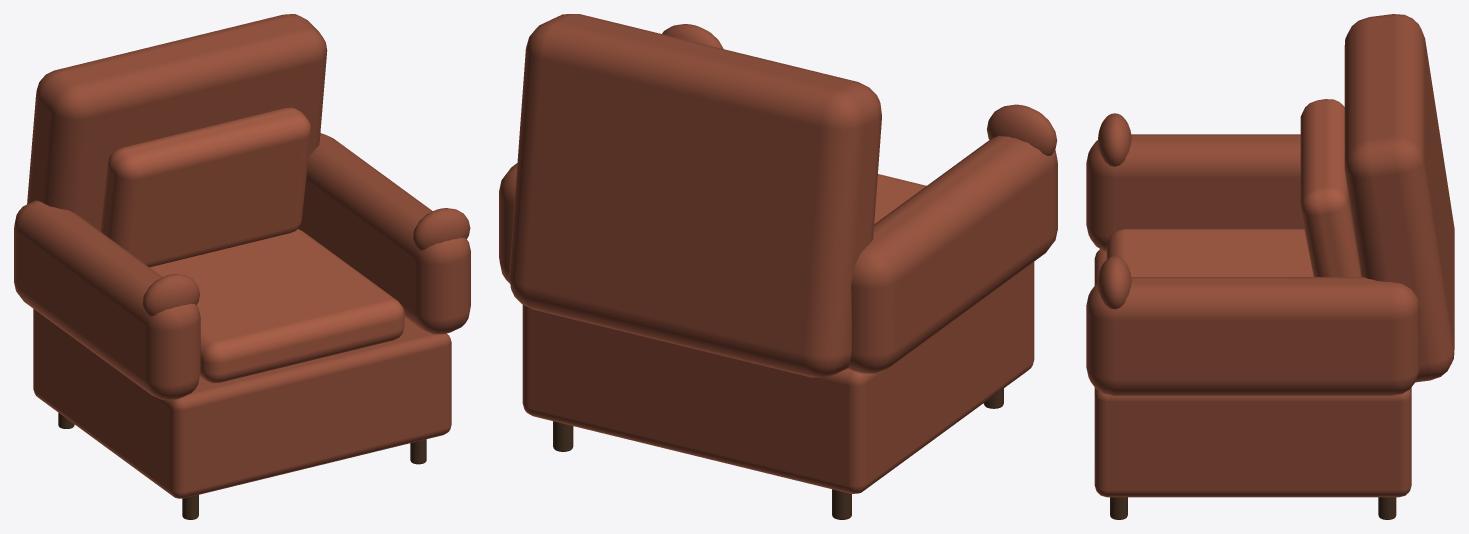
The model's file is armchair.glb.
3 views of the same model, side by side, from view 1: azimuth 30°, elevation 25°; view 2: azimuth 150°, elevation 25°; view 3: azimuth 270°, elevation 25° (orthographic). The views are drawn at different scales.
Parts seen in each view (by area): view 1: Cube, Cube.001, Cube.005, Cube.004, Cube.002, Cube.003, Sphere.001, Sphere; view 2: Cube.001, Cube, Cube.002, Sphere, Cube.003, Cube.004, Sphere.001; view 3: Cube.003, Cube, Cube.001, Cube.002, Cube.004, Cube.005, Sphere, Sphere.001.
Part boxes in pixels (bbox=[...]): Cube: bbox=[33, 309, 451, 498]; Cube.001: bbox=[27, 14, 327, 231]; Cube.005: bbox=[100, 107, 311, 267]; Cube.004: bbox=[149, 229, 404, 383]; Cube.002: bbox=[14, 200, 200, 400]; Cube.003: bbox=[298, 133, 470, 334]; Sphere.001: bbox=[413, 208, 470, 250]; Sphere: bbox=[142, 274, 199, 316]; Cube.001: bbox=[509, 14, 881, 377]; Cube: bbox=[522, 262, 1034, 493]; Cube.002: bbox=[848, 136, 1057, 373]; Sphere: bbox=[986, 104, 1057, 155]; Cube.003: bbox=[499, 163, 517, 283]; Cube.004: bbox=[874, 174, 926, 223]; Sphere.001: bbox=[662, 24, 723, 48]; Cube.003: bbox=[1086, 277, 1419, 395]; Cube: bbox=[1094, 249, 1411, 497]; Cube.001: bbox=[1344, 14, 1454, 382]; Cube.002: bbox=[1086, 134, 1304, 251]; Cube.004: bbox=[1106, 229, 1313, 276]; Cube.005: bbox=[1300, 99, 1361, 276]; Sphere: bbox=[1097, 113, 1131, 166]; Sphere.001: bbox=[1097, 256, 1131, 309].
Bounding box in the file's own units: 1 × 1.03 × 0.9052.
